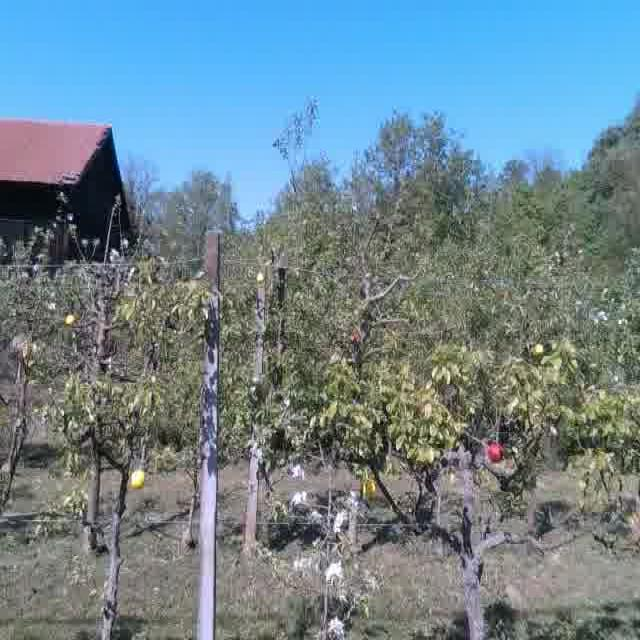red: (485, 439, 505, 461)
yellow: (128, 465, 148, 489), (359, 478, 375, 500), (61, 311, 76, 325), (535, 339, 544, 354)
